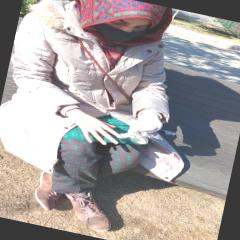gloved: (131, 109, 165, 138)
not-gloved: (61, 108, 122, 148)
